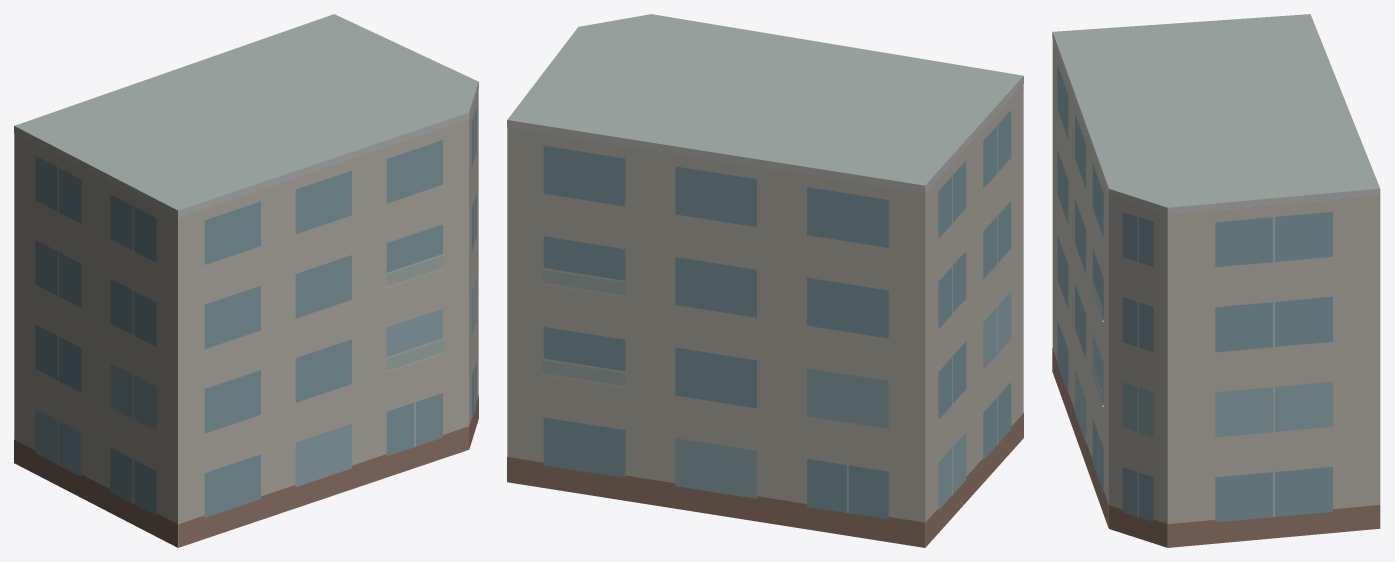
Rendered from survey-upis-32930677.glb.
The picture shows the model from 3 angles, left to right: view 1: azimuth 30°, elevation 25°; view 2: azimuth 150°, elevation 25°; view 3: azimuth 270°, elevation 25°; orthographic projection. The views are drawn at different scales.
Parts seen in each view (by area): view 1: survey-upis-32930677.tmp; view 2: survey-upis-32930677.tmp; view 3: survey-upis-32930677.tmp.
Part boxes in pixels (x1=…): survey-upis-32930677.tmp: x1=14, y1=14, x2=478, y2=547; survey-upis-32930677.tmp: x1=507, y1=14, x2=1023, y2=547; survey-upis-32930677.tmp: x1=1052, y1=14, x2=1380, y2=547.
Bounding box in the file's own units: 13.94 × 11.4 × 9.96.
